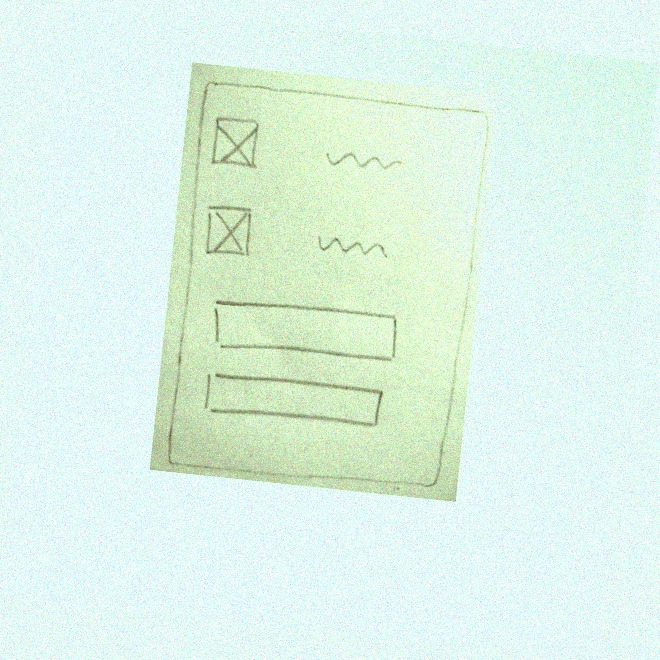image: (205, 112, 265, 171), (197, 202, 257, 261)
text: (319, 143, 407, 177), (308, 229, 395, 262)
text_input: (204, 293, 409, 369), (197, 367, 387, 432)
